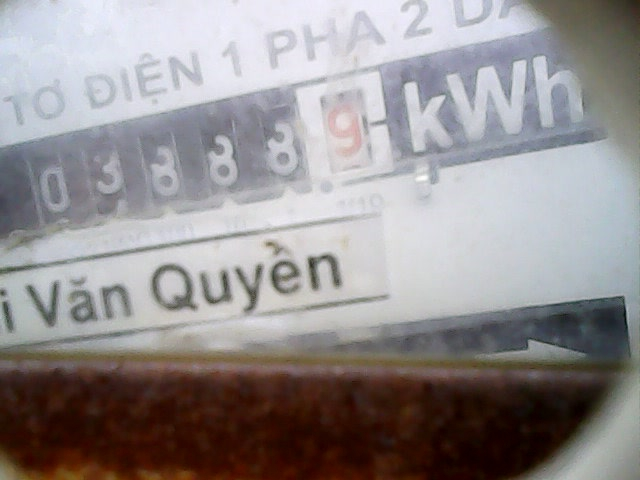phy_plate: (13, 68, 391, 231)
